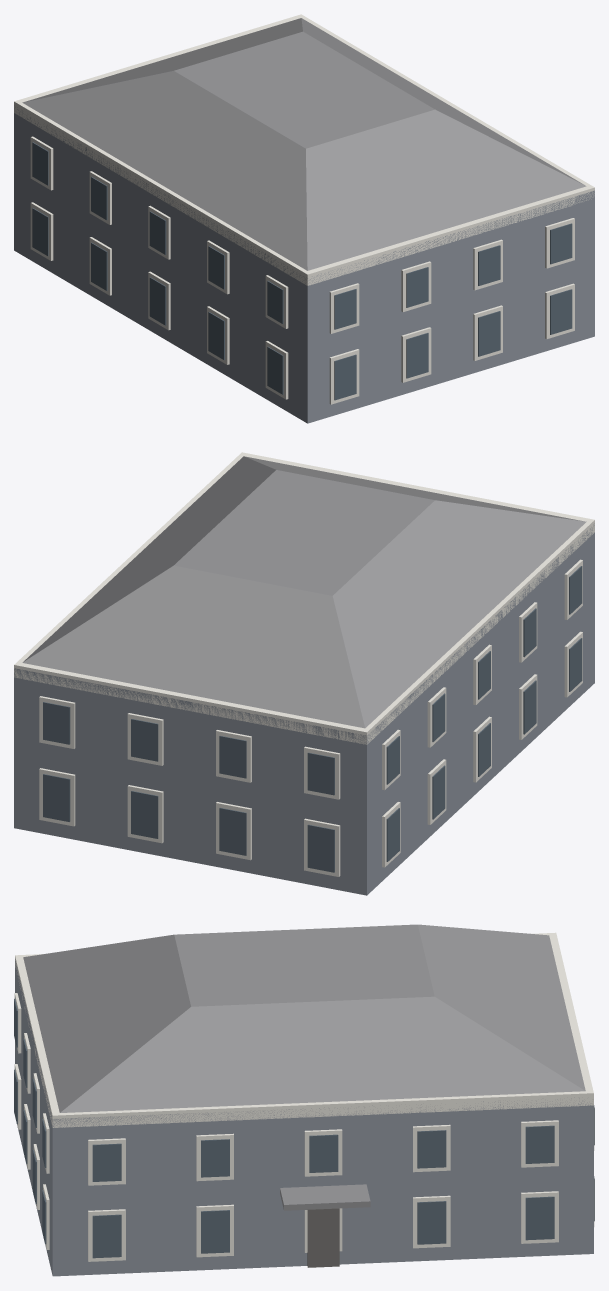
File: s14_gis_247953_820768_detail.glb
3 renders of one model, top to bottom at view 1: azimuth 30°, elevation 25°; view 2: azimuth 150°, elevation 25°; view 3: azimuth 270°, elevation 25°, orthographic. The views are drawn at different scales.
Visible parts, largest first — view 1: roof, mass, cornice, win_0_0.12_1.5, win_0_0.38_1.5, win_0_0.62_1.5, win_0_0.88_1.5, win_0_0.62_4.3, win_0_0.88_4.3, win_0_0.12_4.3, win_0_0.38_4.3, win_1_0.50_1.5 (+20 smaller); view 2: roof, mass, cornice, win_2_0.88_1.5, win_2_0.12_1.5, win_2_0.38_1.5, win_2_0.62_1.5, win_2_0.62_4.3, win_2_0.38_4.3, win_2_0.88_4.3, win_2_0.12_4.3, wtrim_2_0.12_1.5 (+12 smaller); view 3: roof, mass, cornice, canopy, maindoor, win_3_0.10_1.5, win_3_0.90_1.5, win_3_0.70_1.5, win_3_0.30_1.5, win_3_0.50_4.3, win_3_0.70_4.3, win_3_0.90_4.3 (+11 smaller).
Boxes of the visible parts, x1,y1,x2,y2 form: roof: (22,18,586,270); mass: (14,105,594,423); cornice: (14,14,594,285); win_0_0.12_1.5: (334,354,356,400); win_0_0.38_1.5: (406,333,428,378); win_0_0.62_1.5: (478,311,500,356); win_0_0.88_1.5: (550,289,572,334); win_0_0.62_4.3: (478,245,500,285); win_0_0.88_4.3: (550,223,572,264); win_0_0.12_4.3: (334,289,356,329); win_0_0.38_4.3: (406,267,428,307); win_1_0.50_1.5: (149,277,166,325); roof: (22,456,586,728); mass: (14,523,594,895); cornice: (14,452,594,744); win_2_0.88_1.5: (307,824,334,872); win_2_0.12_1.5: (43,774,70,821); win_2_0.38_1.5: (131,791,158,838); win_2_0.62_1.5: (219,807,246,855); win_2_0.62_4.3: (219,735,246,778); win_2_0.38_4.3: (131,719,158,761); win_2_0.88_4.3: (307,752,334,795); win_2_0.12_4.3: (43,702,70,744); wtrim_2_0.12_1.5: (39,768,75,826); roof: (23,924,585,1112); mass: (15,959,593,1276); cornice: (15,932,593,1127); canopy: (280,1184,370,1210); maindoor: (307,1208,339,1267); win_3_0.10_1.5: (92,1214,121,1258); win_3_0.90_1.5: (525,1196,554,1240); win_3_0.70_1.5: (417,1201,446,1244); win_3_0.30_1.5: (201,1210,229,1253); win_3_0.50_4.3: (309,1134,338,1172); win_3_0.70_4.3: (417,1130,446,1168); win_3_0.90_4.3: (525,1125,554,1163).
Size of the model in its own units: 15.57 by 8.35 by 20.04.
